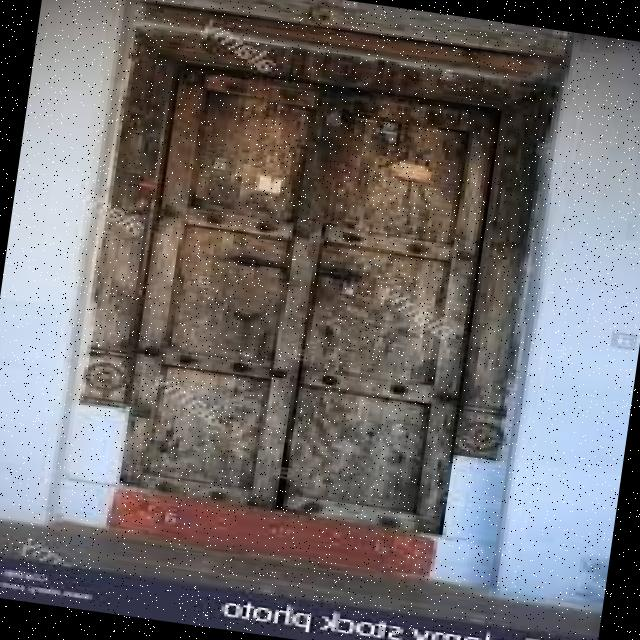Door: (51, 19, 552, 538)
